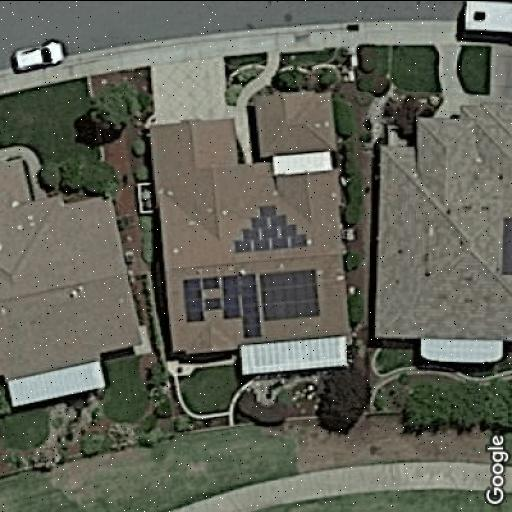solar-panel: (181, 270, 261, 340), (231, 202, 310, 254), (258, 266, 321, 322), (499, 216, 512, 276)
